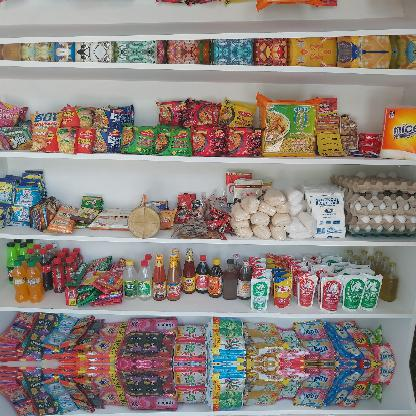Lady-s-Choice: (126, 204, 162, 238)
